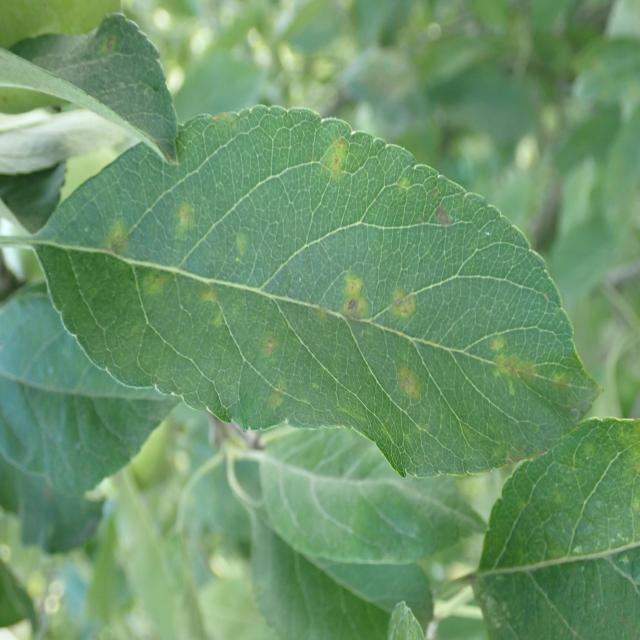scab: (74, 84, 624, 480)
